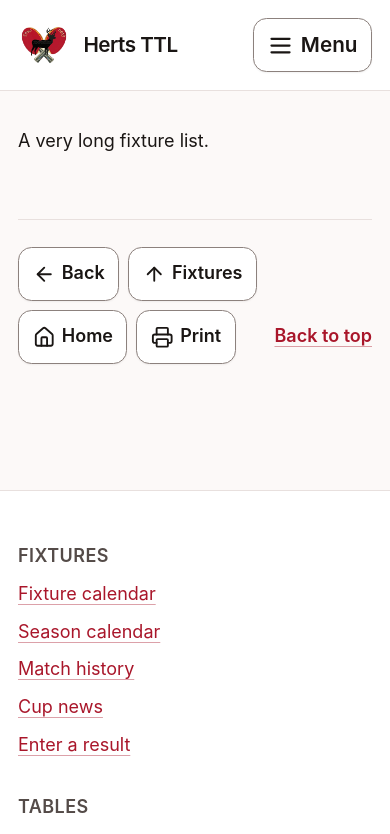
Test case: the phone menu › releases the page when it closes on Escape
Click the button "Menu" at (312, 45), box [253, 18, 372, 72]
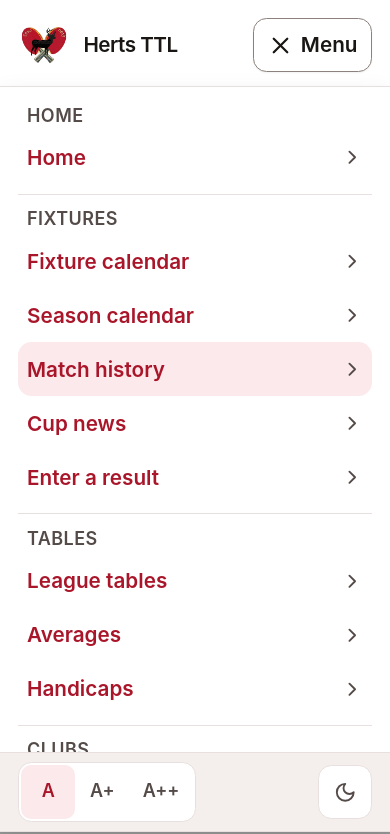
Press Escape
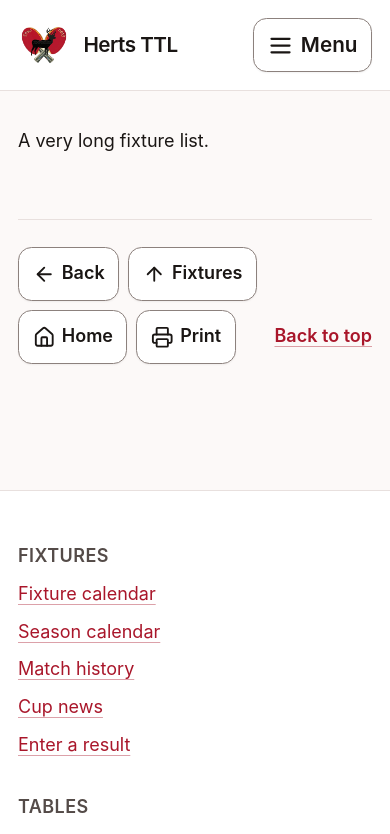
Expected: the button "Menu" is collapsed, [253, 18, 372, 72]
